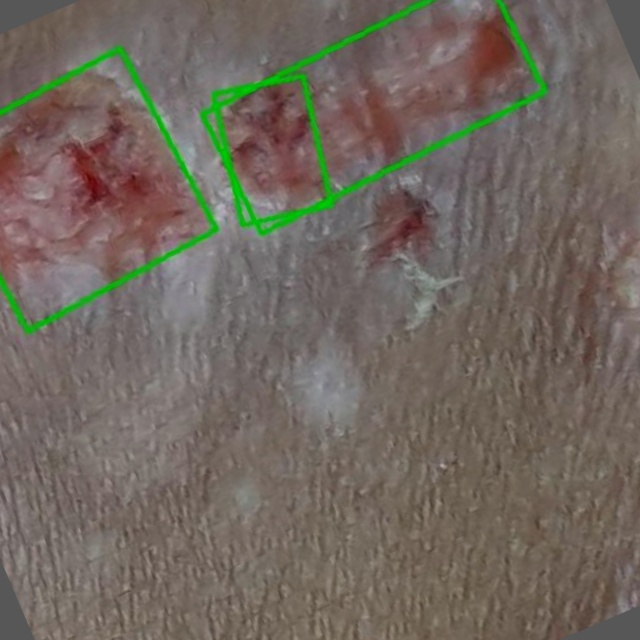Eczema: (200, 0, 544, 233), (0, 48, 216, 331), (213, 74, 331, 225)
